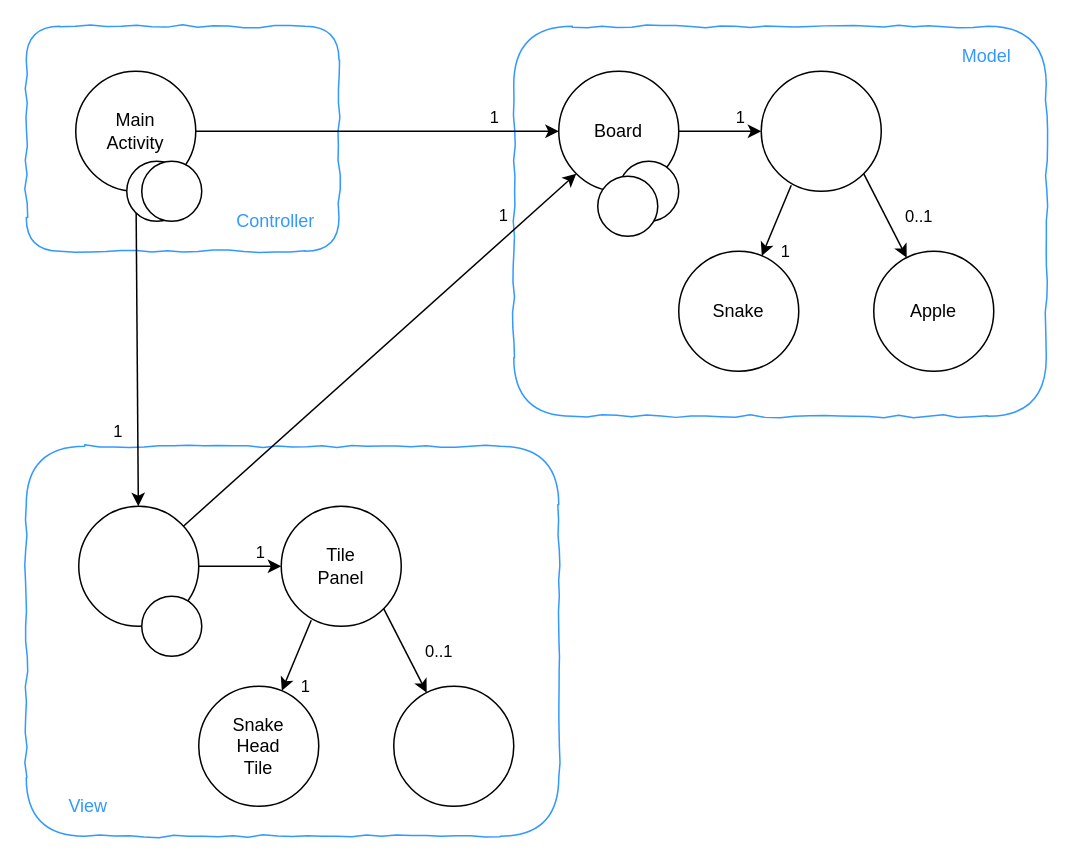
Some shapes in this 1073 by 863 pixel diagram are drawn without their labels. Here are the shapes that lost their labels. From the top down, the box of each, then its label:
(760, 70, 881, 191): Board Element [ ][ ]
(77, 505, 199, 626): Board View
(392, 685, 514, 806): Apple Tile
